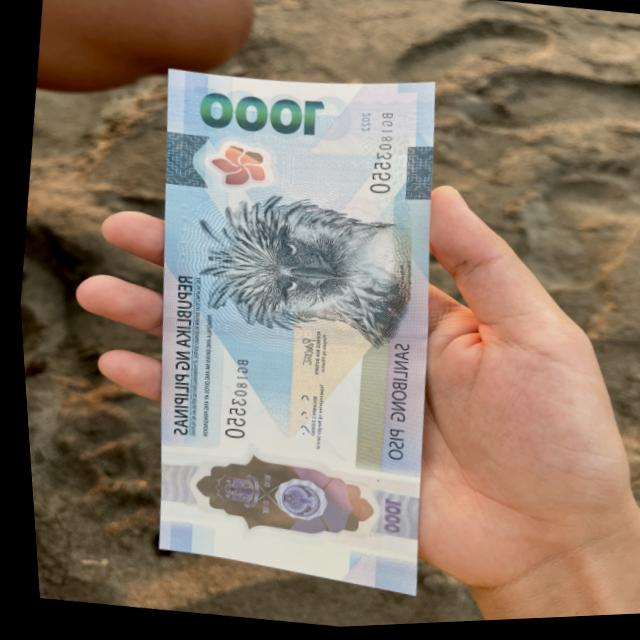clear_window: (151, 428, 423, 569)
eagle: (172, 175, 430, 365)
sampaguita: (191, 131, 280, 202)
